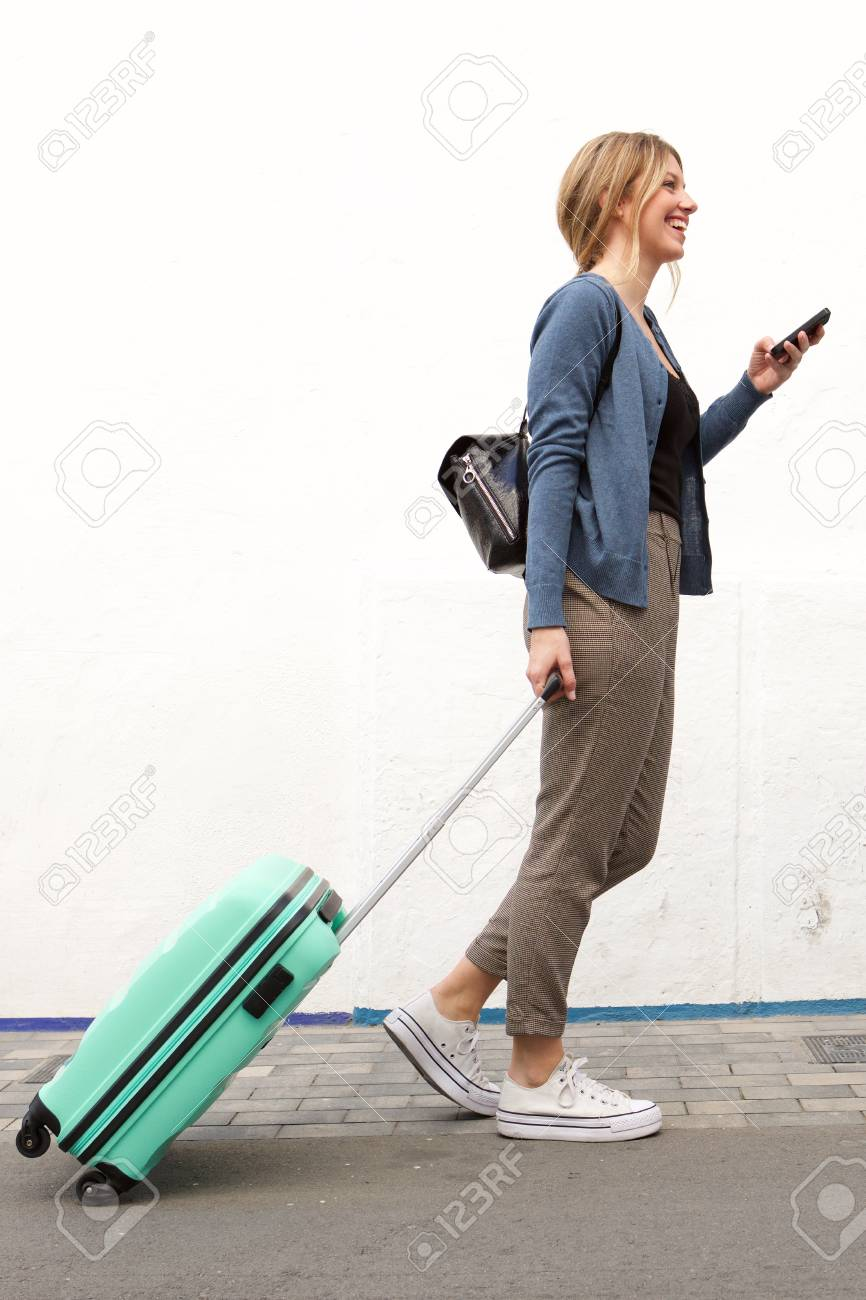bag: (434, 412, 583, 583)
luggage: (15, 660, 570, 1219)
people: (373, 124, 835, 1155)
